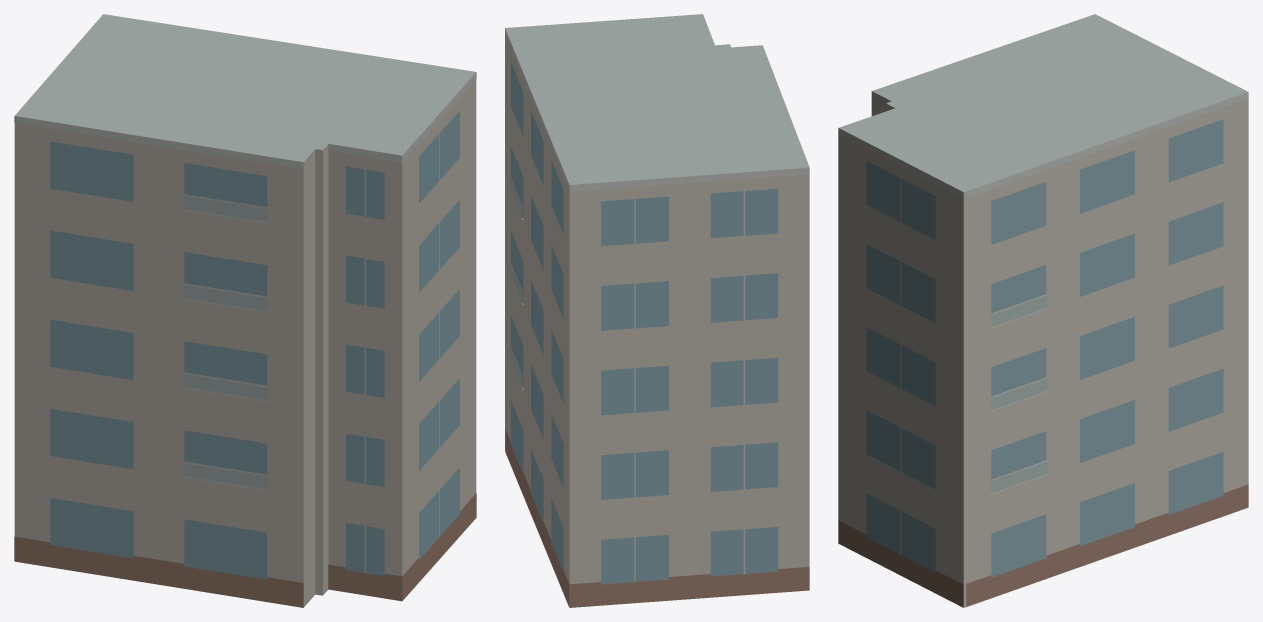
Rendered from survey-upis-33031514.glb.
3 views of the same model, side by side, from view 1: azimuth 30°, elevation 25°; view 2: azimuth 150°, elevation 25°; view 3: azimuth 270°, elevation 25° (orthographic). The views are drawn at different scales.
Visible parts, largest first — view 1: survey-upis-33031514.tmp; view 2: survey-upis-33031514.tmp; view 3: survey-upis-33031514.tmp.
Boxes of the visible parts, x1,y1,x2,y2 form: survey-upis-33031514.tmp: (14,14,476,607); survey-upis-33031514.tmp: (505,14,809,607); survey-upis-33031514.tmp: (838,14,1248,607).
Size of the model in its own units: 14.03 by 15.25 by 13.65.
